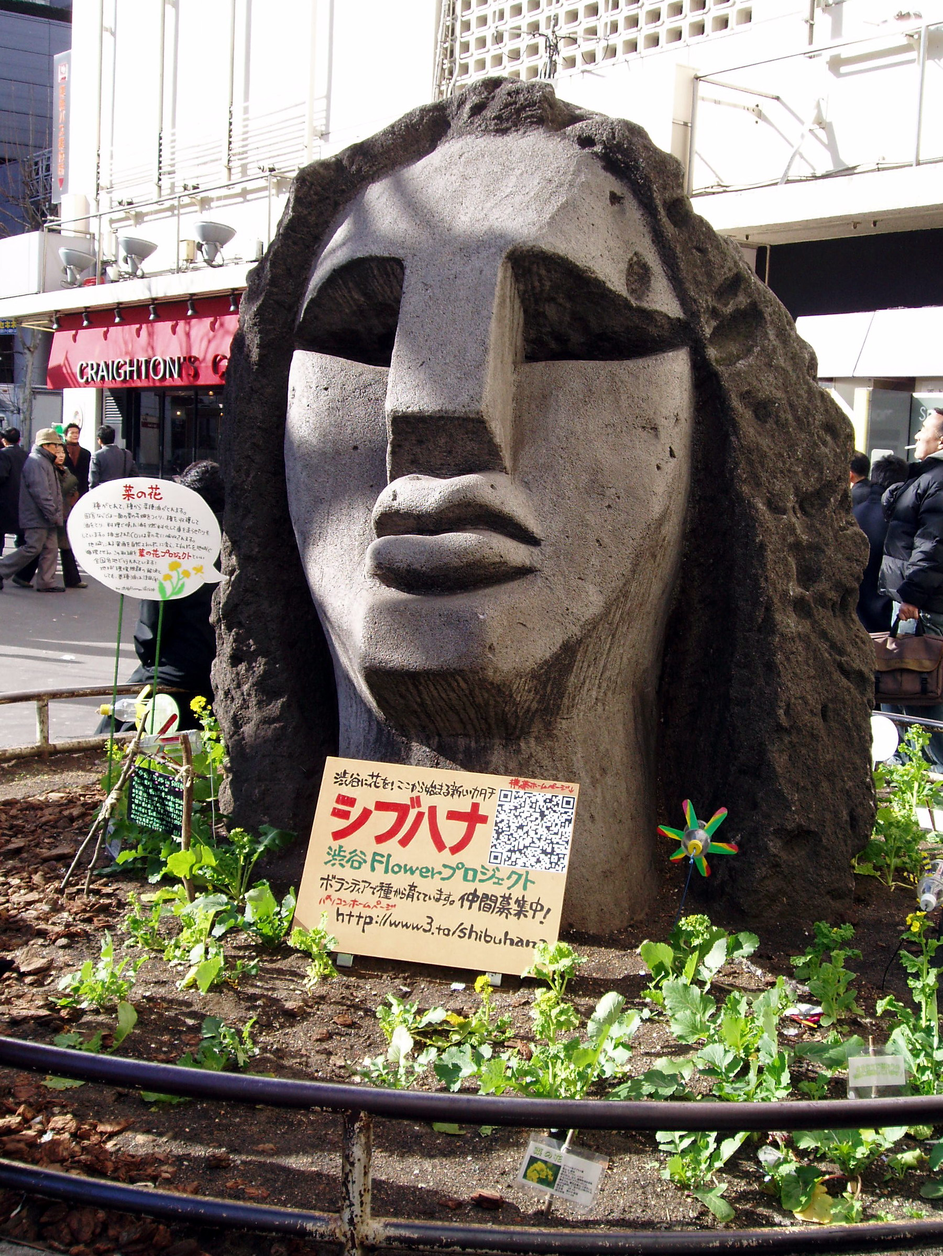QR-CODE: (488, 789, 574, 872)
